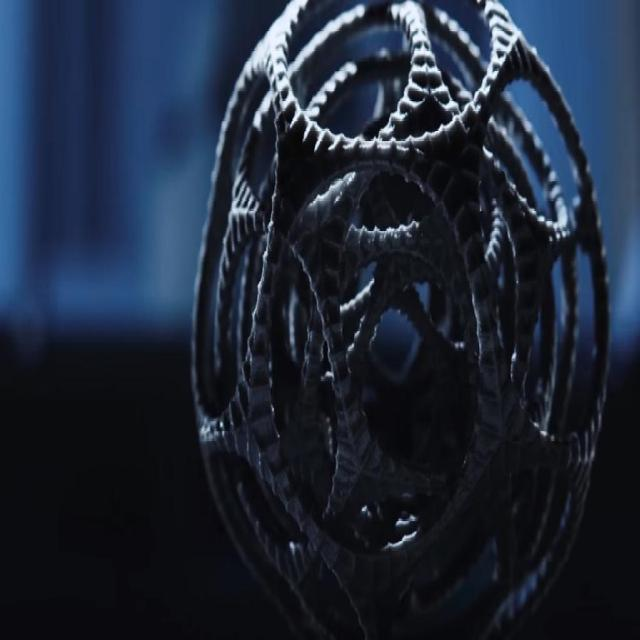Without deffect: (188, 0, 614, 633)
